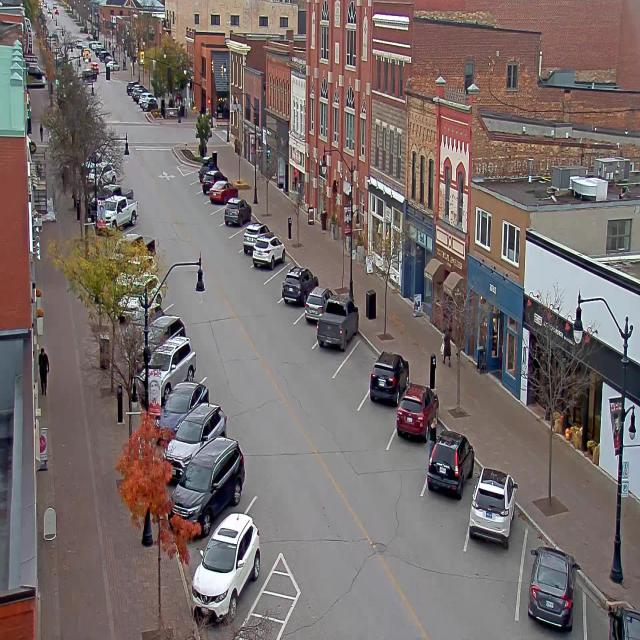available: (343, 330, 379, 388), (259, 261, 287, 302), (227, 225, 244, 253), (208, 203, 224, 228), (182, 167, 198, 186)
occupied: (169, 435, 245, 538), (190, 508, 262, 612), (527, 544, 579, 631), (168, 395, 234, 461), (468, 466, 518, 548), (426, 429, 475, 497), (154, 380, 208, 441), (390, 377, 432, 447), (584, 588, 639, 639), (145, 336, 198, 384), (368, 350, 409, 406), (316, 297, 358, 351), (282, 264, 318, 305), (252, 232, 285, 269), (302, 282, 328, 328), (224, 196, 252, 226), (208, 182, 240, 205), (242, 223, 262, 254), (200, 168, 224, 193), (197, 155, 212, 182)
